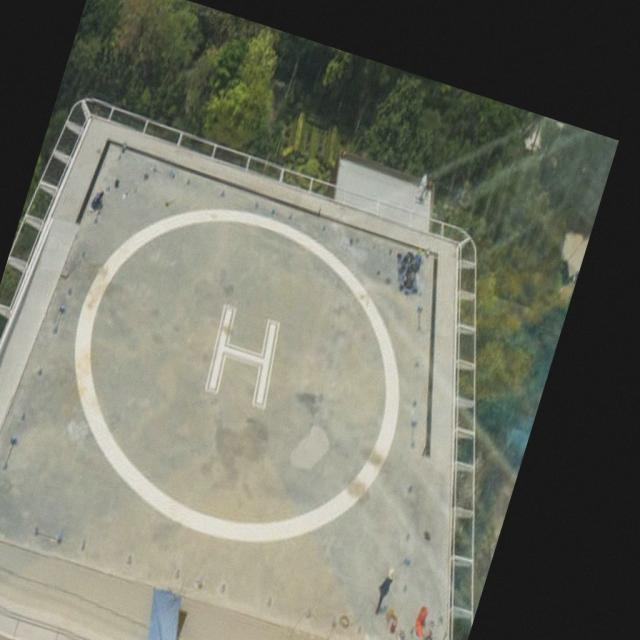helipad: (68, 202, 404, 547)
